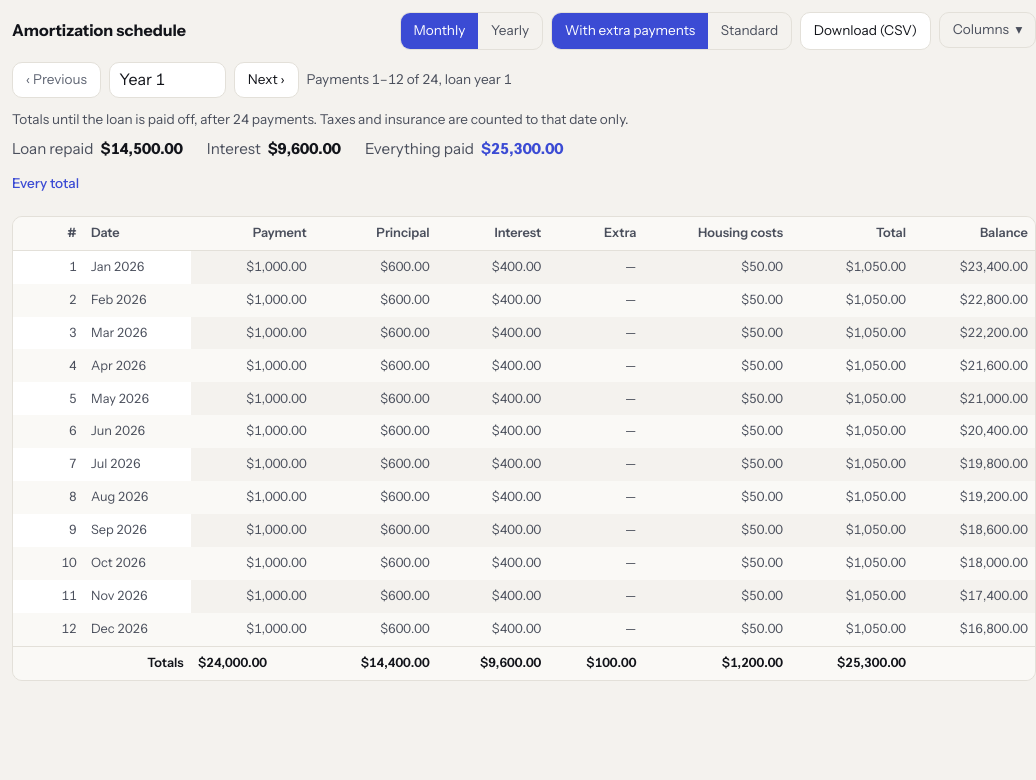
Scenario: ScheduleTableComponent › yearly view › rolls the payments up into one row per loan year
Click the button with test id "view-yearly" at (510, 31), box left=478, top=13, right=542, bottom=49
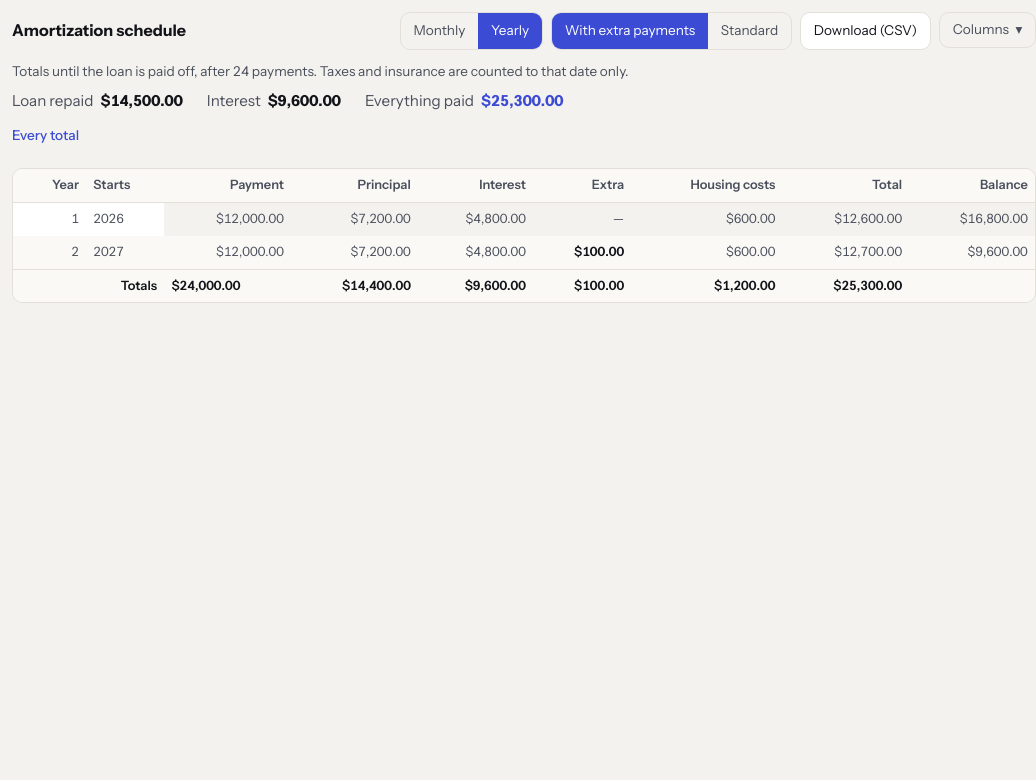
Check: the column heading "Year" is shown, box left=13, top=169, right=86, bottom=202
